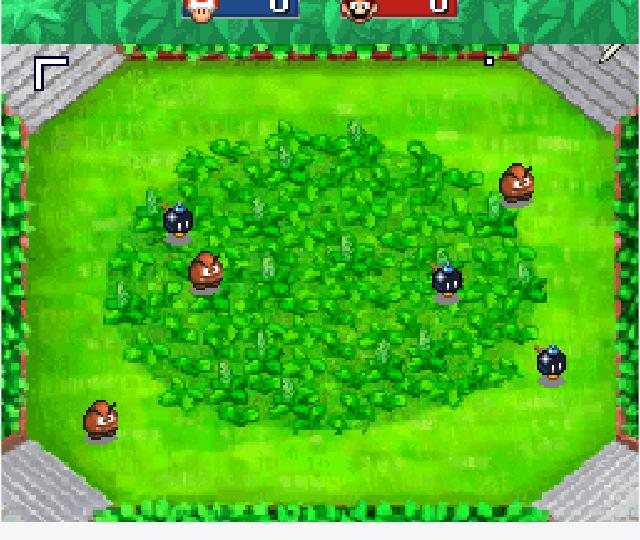bomb: (529, 341, 571, 387), (159, 198, 195, 242), (428, 262, 465, 298)
goomba: (185, 246, 228, 296), (79, 399, 122, 445), (498, 160, 536, 207)
